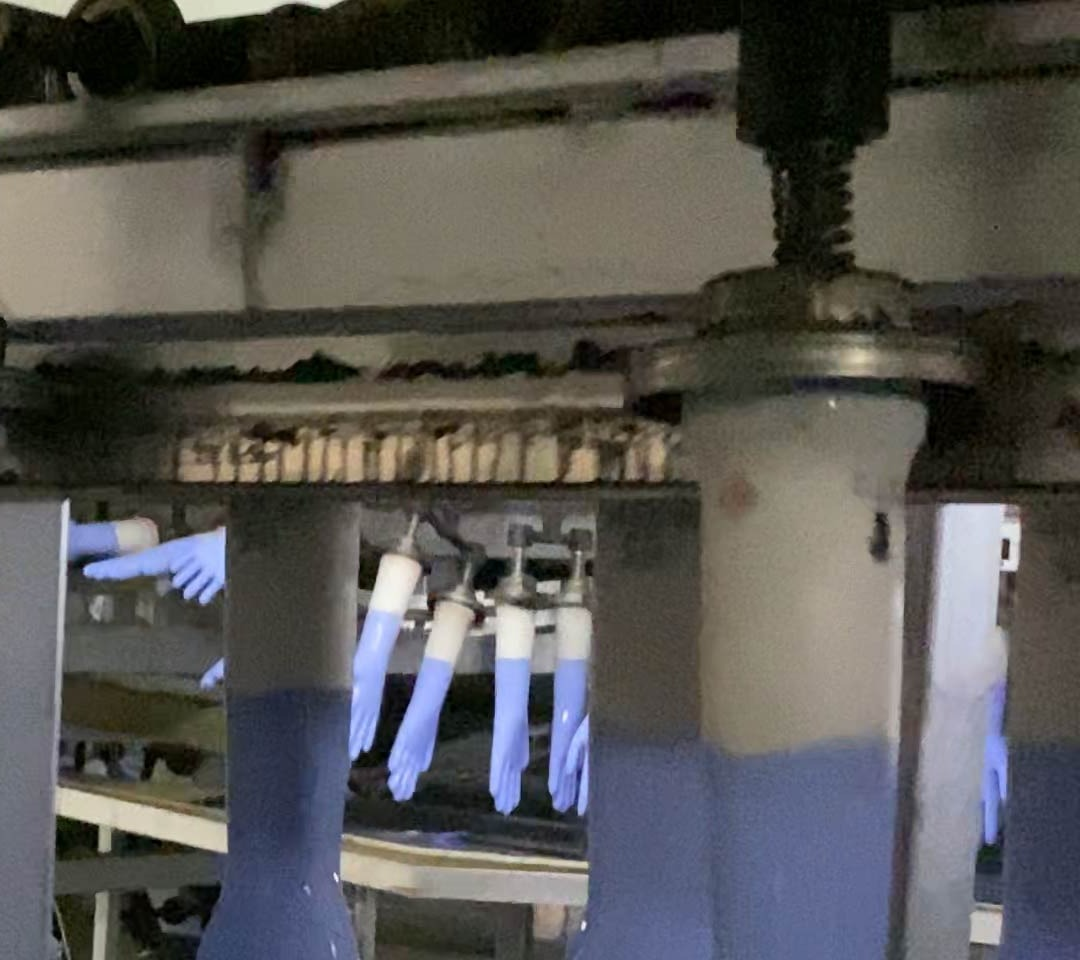glove: (384, 655, 453, 802), (481, 655, 532, 821), (546, 657, 592, 812), (346, 609, 391, 760), (169, 534, 226, 605)
